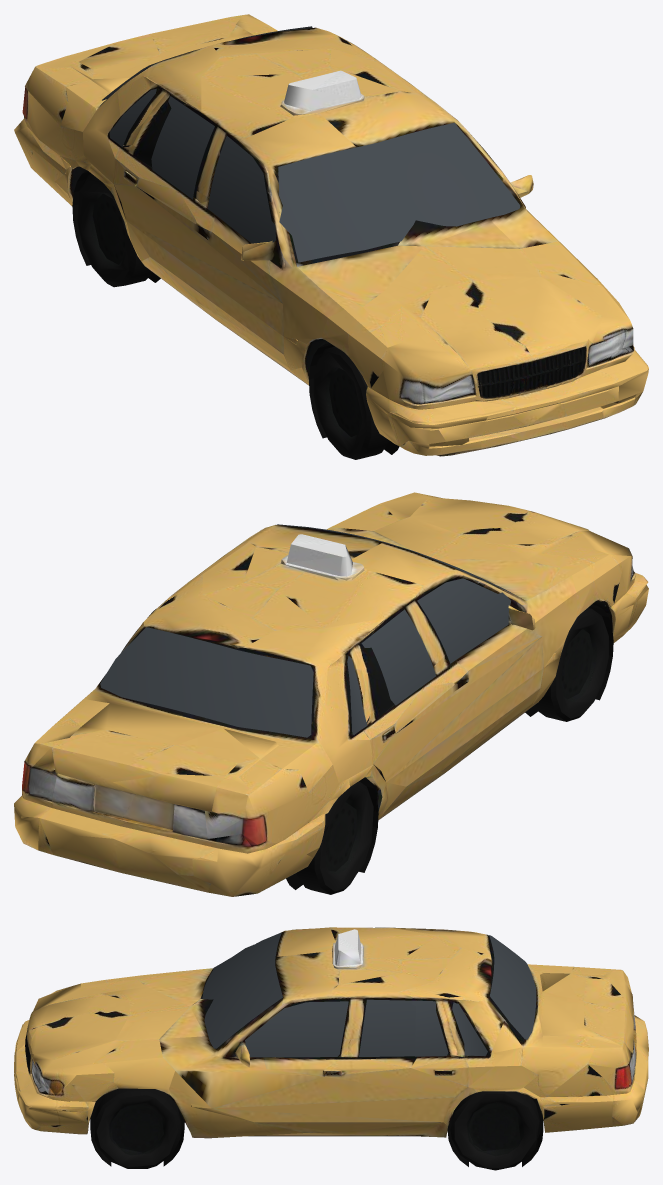
The model's file is taxi.glb.
3 renders of one model, top to bottom at view 1: azimuth 30°, elevation 25°; view 2: azimuth 150°, elevation 25°; view 3: azimuth 270°, elevation 25°, orthographic. The views are drawn at different scales.
Parts seen in each view (by area): view 1: body, glass, wheel_fr, wheel_rr; view 2: body, glass, wheel_rr, wheel_fr; view 3: body, glass, wheel_fl, wheel_rl.
Boxes of the visible parts, left/top/right/bottom form: body: left=14, top=14, right=648, bottom=456; glass: left=102, top=26, right=520, bottom=262; wheel_fr: left=313, top=346, right=389, bottom=459; wheel_rr: left=77, top=174, right=151, bottom=287; body: left=14, top=492, right=648, bottom=896; glass: left=100, top=524, right=521, bottom=737; wheel_rr: left=296, top=781, right=373, bottom=894; wheel_fr: left=534, top=608, right=608, bottom=721; body: left=14, top=927, right=648, bottom=1166; glass: left=202, top=932, right=536, bottom=1057; wheel_fl: left=93, top=1088, right=181, bottom=1168; wheel_rl: left=450, top=1091, right=540, bottom=1170.
Size of the model in its own units: 2.1 by 1.68 by 5.2.
3 materials, 2 textured.
